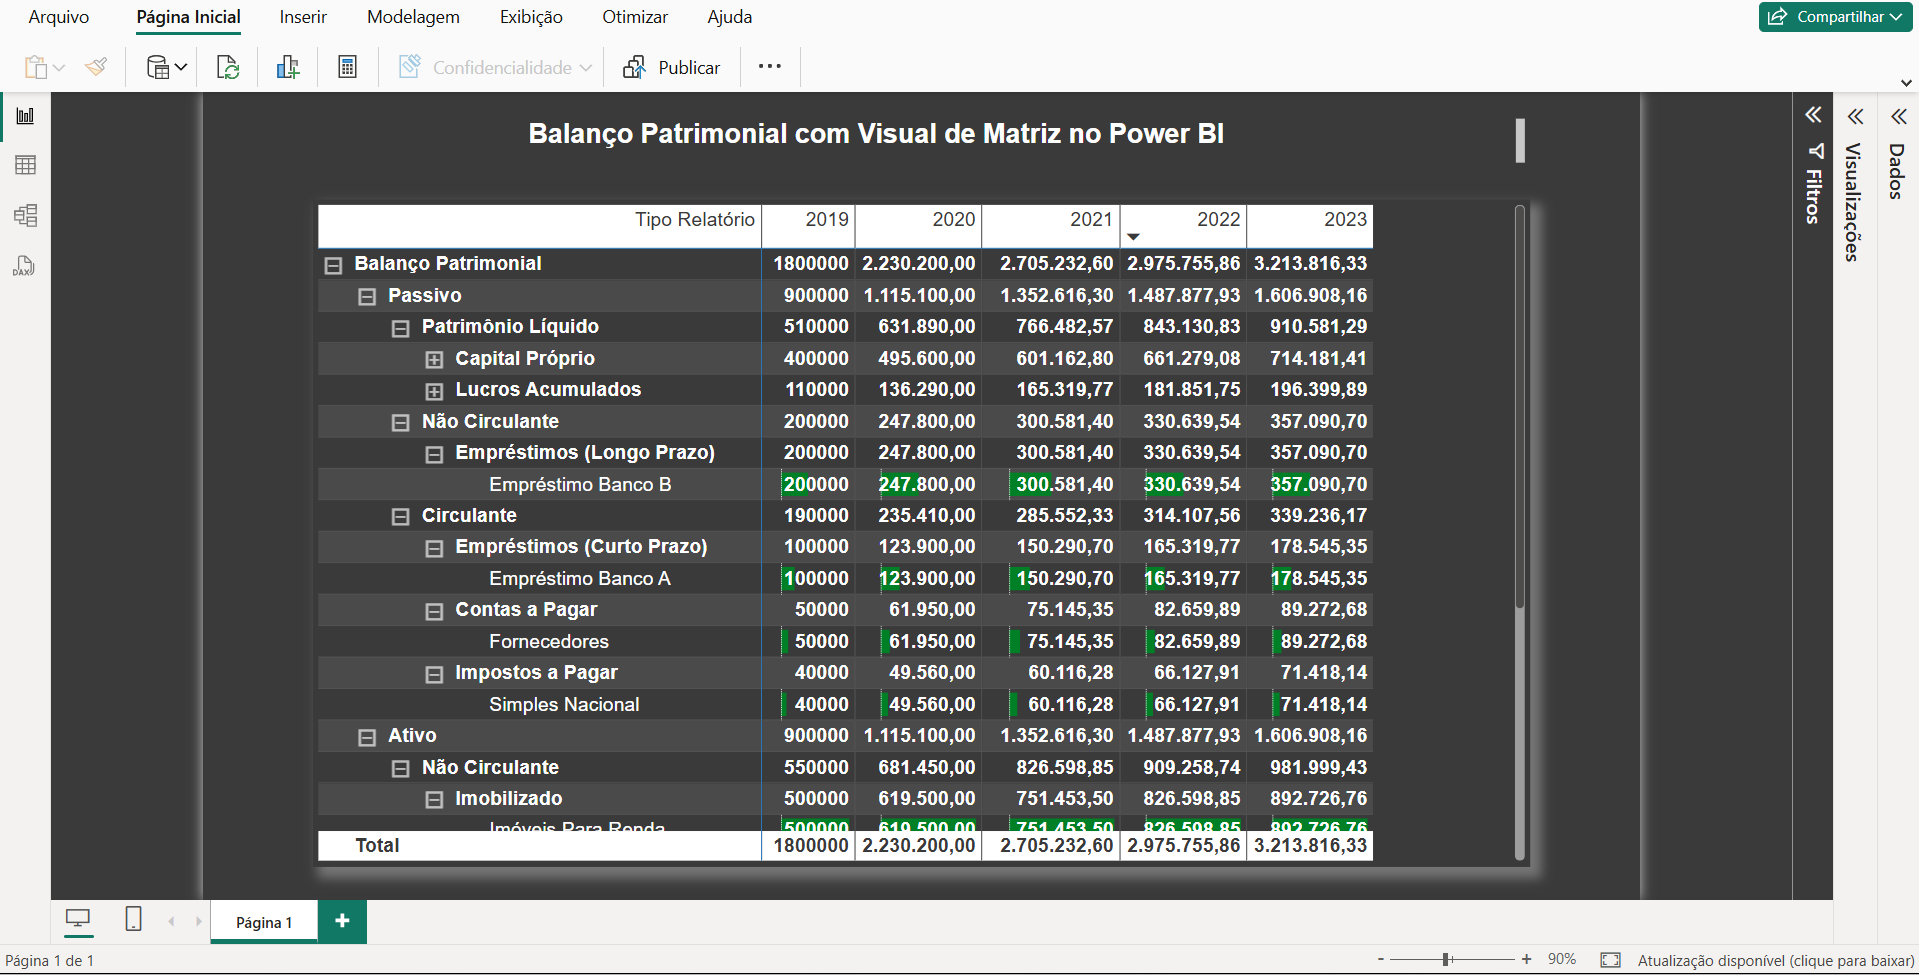

The page's visual inventory and layout, read from the dashboard file:
{"tool":"powerbi","page":{"name":"Página 1","canvas":[1280,720],"ordinal":0},"visuals":[{"type":"pivotTable","fields":{"Rows":["PlanoContas.Tipo Relatório","PlanoContas.Conta Nível 1","PlanoContas.Conta Nível 2","PlanoContas.Conta Nível 3","PlanoContas.Conta Nível 4"],"Values":["Sum(DadosContabeis.Ano_2019)","Sum(DadosContabeis.Ano_2020)","Sum(DadosContabeis.Ano_2021)","Sum(DadosContabeis.Ano_2022)","Sum(DadosContabeis.Ano_2023)"]},"box":[97.4,96.1,1084.1,594.2],"z":0},{"type":"textbox","box":[97.4,19.2,1084.1,56.3],"z":1000}]}

Visuals, with their boxes on the page's 1280x720 design canvas (x1, y1, x2, y2). These are canvas units, not pixel positions in the 1919x975 screenshot, which may show the page scaled, cropped or inside an application window:
pivotTable - PlanoContas.Tipo Relatório x PlanoContas.Conta Nível 1: left=97, top=96, right=1182, bottom=690
textbox: left=97, top=19, right=1182, bottom=76
